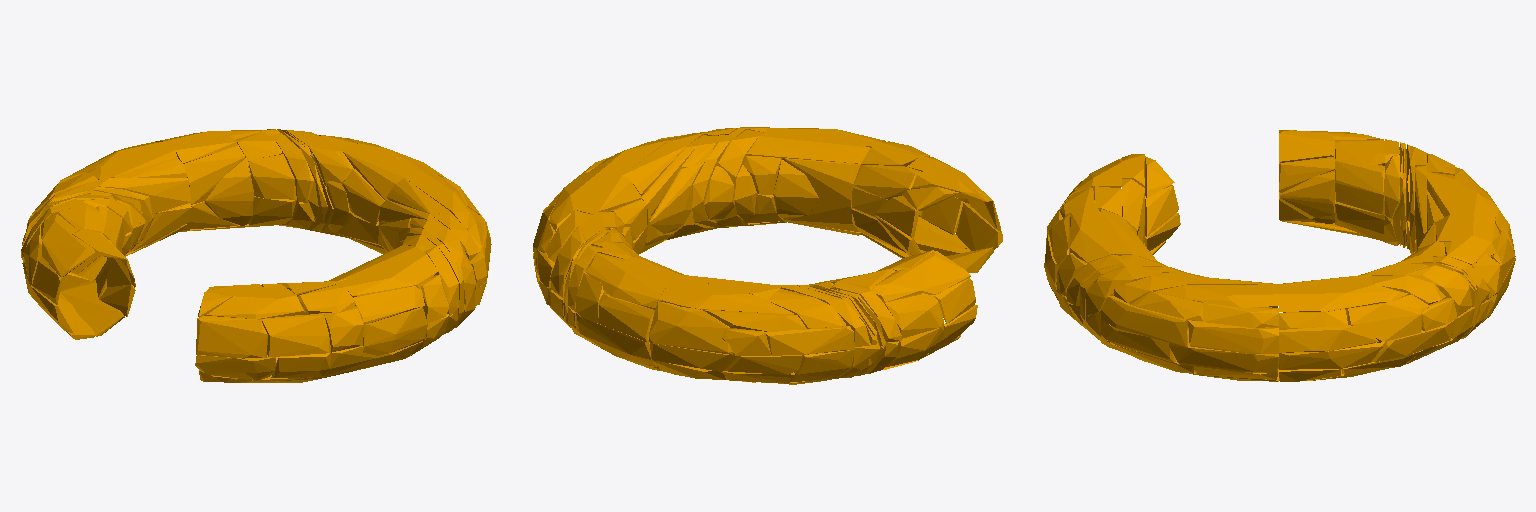
URDF robot description (donut):
<?xml version="1.0"?>
<robot name="donut">

  <link name="base_link">
    <visual>
      <geometry>
        <mesh filename="package://physical-experiment/downsampled4blender/donut-45-vhacd.obj" scale="10 10 10"/>
      </geometry>
    </visual>
    <collision>
      <geometry>
        <mesh filename="package://physical-experiment/downsampled4blender/donut-45-vhacd.obj" scale="10 10 10"/>
      </geometry>
    </collision>
  </link>

</robot>

--- Render facts (derived) ---
Views: 3 orthographic renders of the robot side by side, from view 1: azimuth 30°, elevation 25°; view 2: azimuth 150°, elevation 25°; view 3: azimuth 270°, elevation 25°.
Robot: donut — 1 links, 0 joints (none); root link base_link; default pose: all joints at 0.
Links seen in each view (by area): view 1: base_link; view 2: base_link; view 3: base_link.
Boxes of the visible links, bbox=[...] form: base_link: bbox=[21, 129, 491, 382]; base_link: bbox=[533, 127, 1002, 384]; base_link: bbox=[1044, 130, 1515, 381].
Bounding box of the posed robot: 1.05 × 1.05 × 0.2117 m (x, y, z).
1 mesh visuals loaded from 1 distinct referenced files (1 OBJ).
